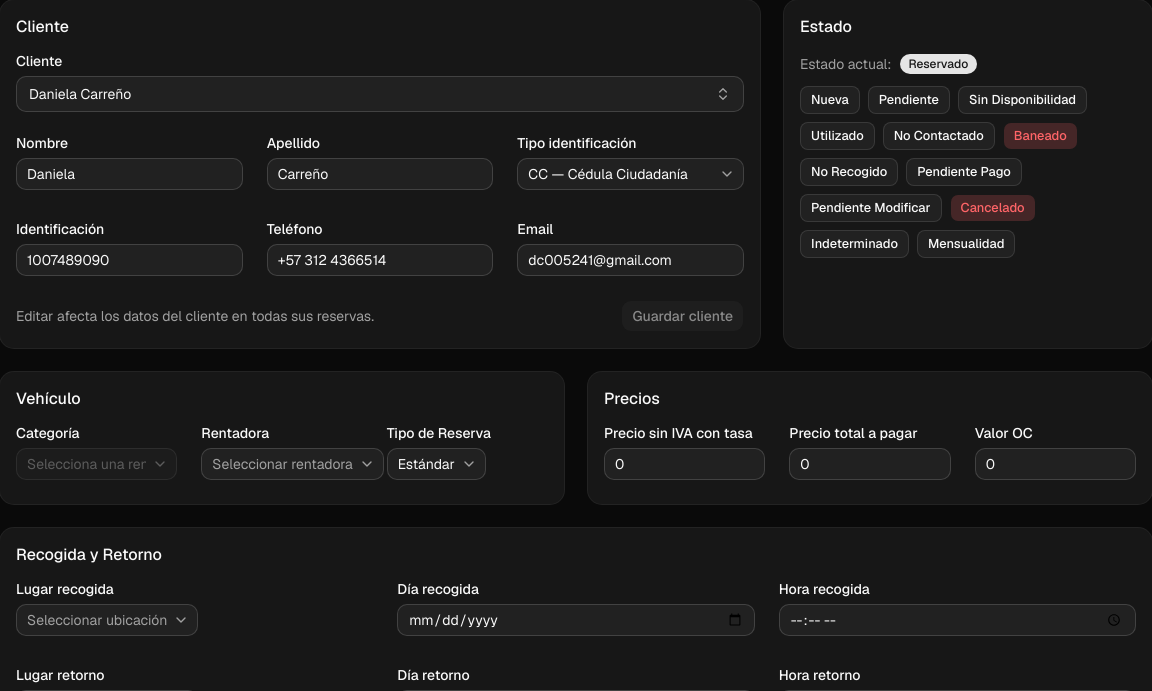
Scenario: ReservationForm layout › toggles the save button on dirty / revert
The image size is (1152, 691).
Expected: the button "Guardar cliente" is disabled, [622, 300, 744, 332]
Replace the text in the field labelled "Email" with "nuevo@mail.com". click: (631, 260)
box: [517, 244, 744, 276]
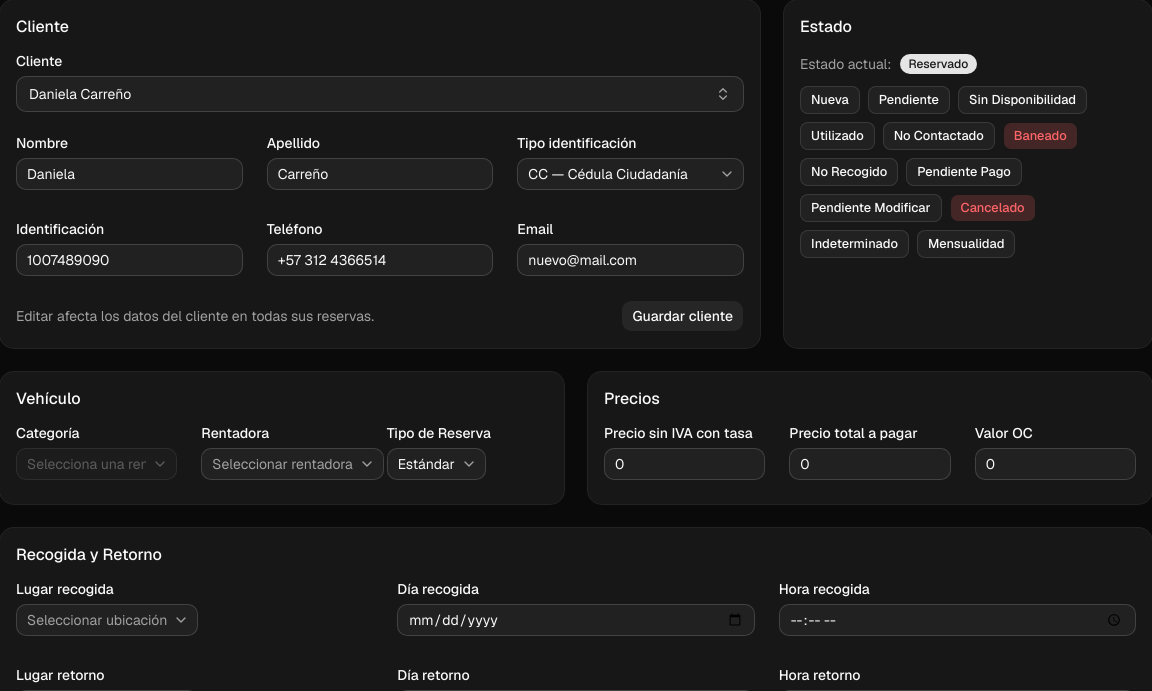
Expected: the button "Guardar cliente" is enabled, [622, 300, 744, 332]
Note: Revert to the exact original value → not dirty again.
Replace the text in the field labelled "Email" with "dc005241@gmail.com". click: (631, 260)
box: [517, 244, 744, 276]
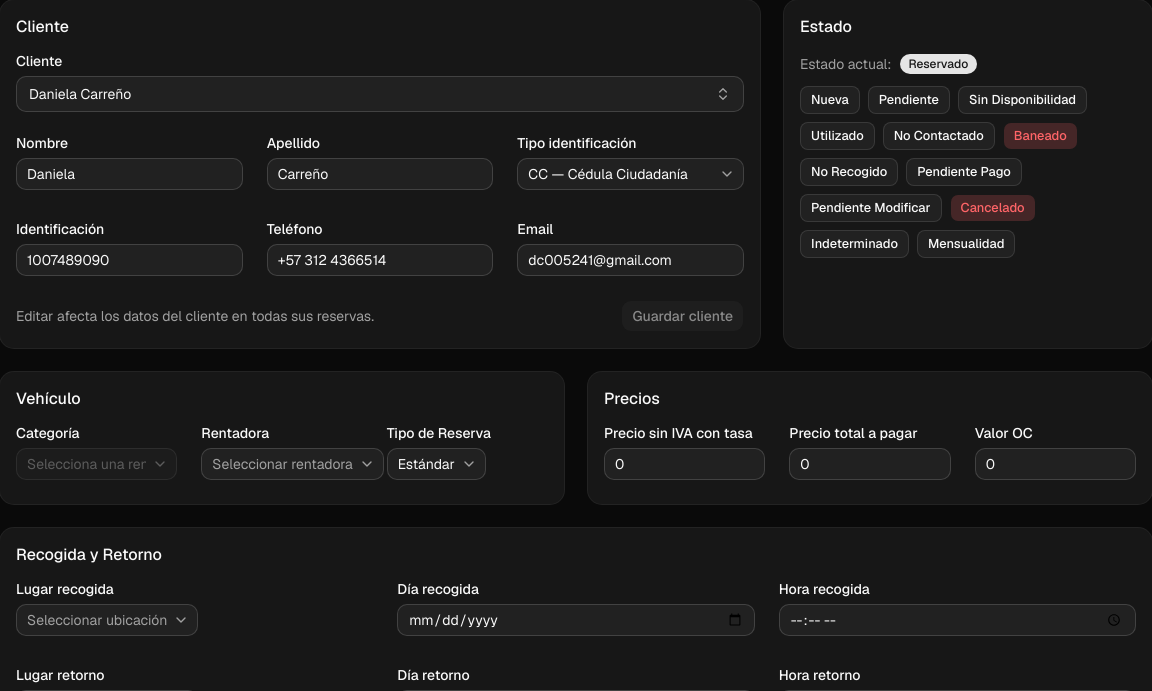
Expected: the button "Guardar cliente" is disabled, [622, 300, 744, 332]
